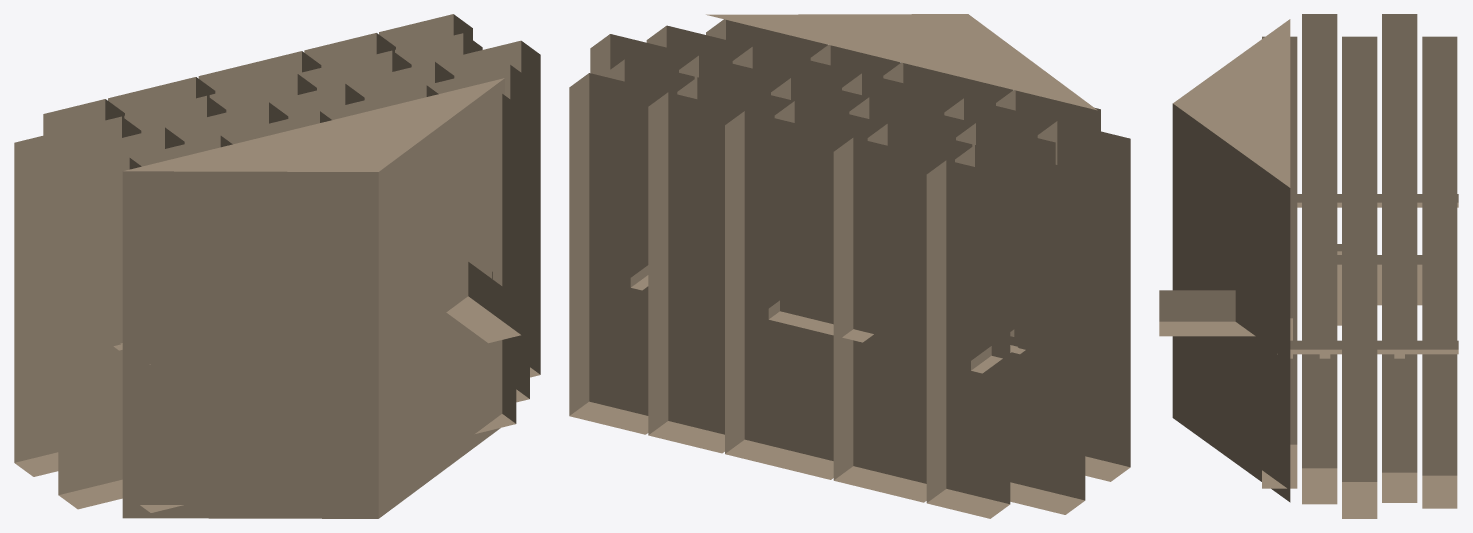
Rendered from inn.glb.
The picture shows the model from 3 angles, left to right: view 1: azimuth 30°, elevation 25°; view 2: azimuth 150°, elevation 25°; view 3: azimuth 270°, elevation 25°; orthographic projection. The views are drawn at different scales.
Parts seen in each view (by area): view 1: world; view 2: world; view 3: world.
Part boxes in pixels (x1,y1,x2,y2): world: [14, 14, 540, 518]; world: [569, 14, 1130, 518]; world: [1159, 14, 1458, 518].
Size of the model in its own units: 9.51 by 6.5 by 5.6.
